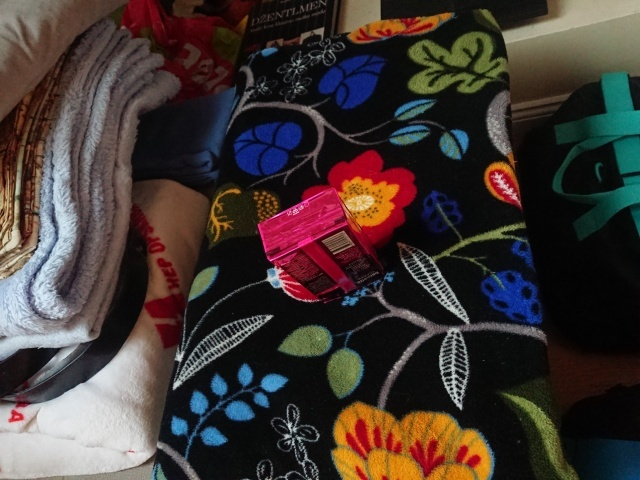Barcaffe Classic Original 225g: (255, 184, 389, 305)
